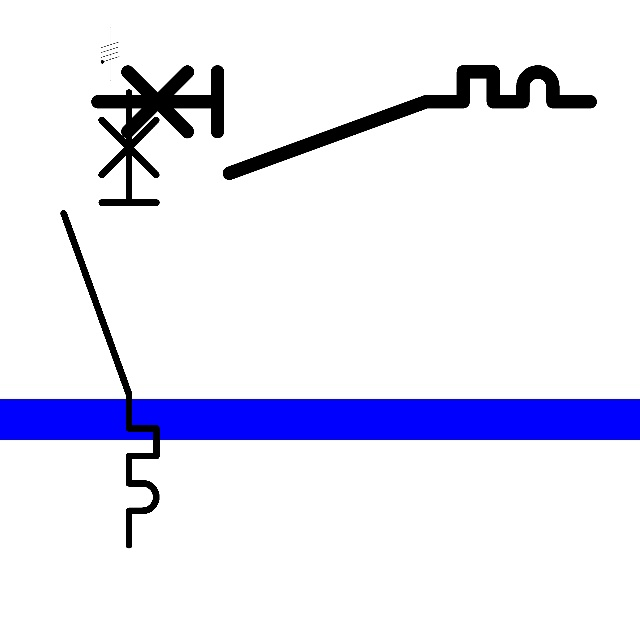interruptor_termomagnetico: (85, 59, 603, 186), (52, 80, 168, 556)
